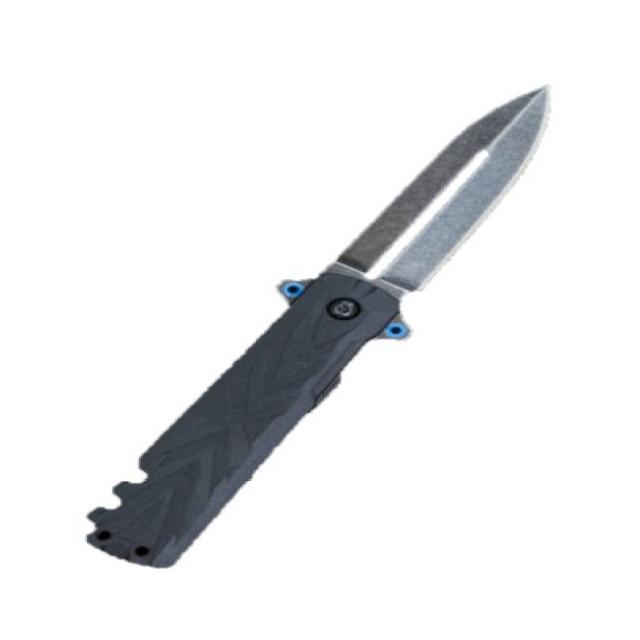knife: (91, 81, 567, 572)
